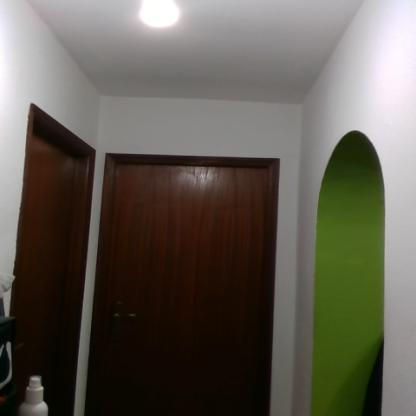door: (105, 161, 271, 415), (14, 127, 87, 415)
lever: (111, 310, 145, 324)
